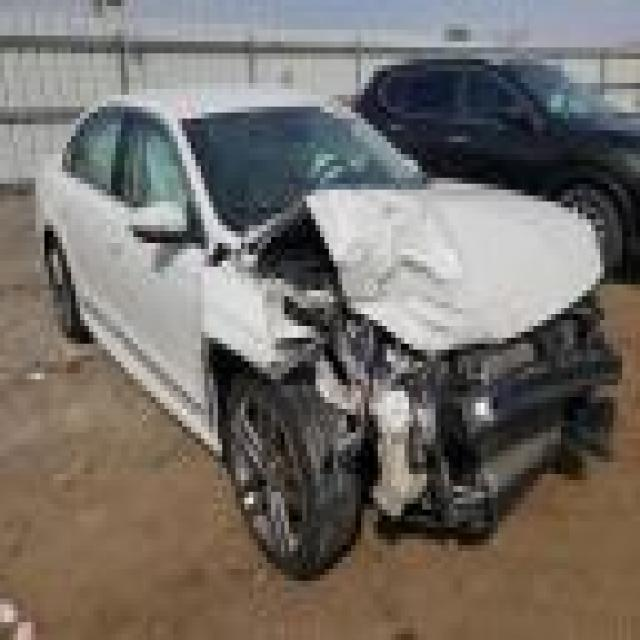severe: (224, 184, 640, 530)
